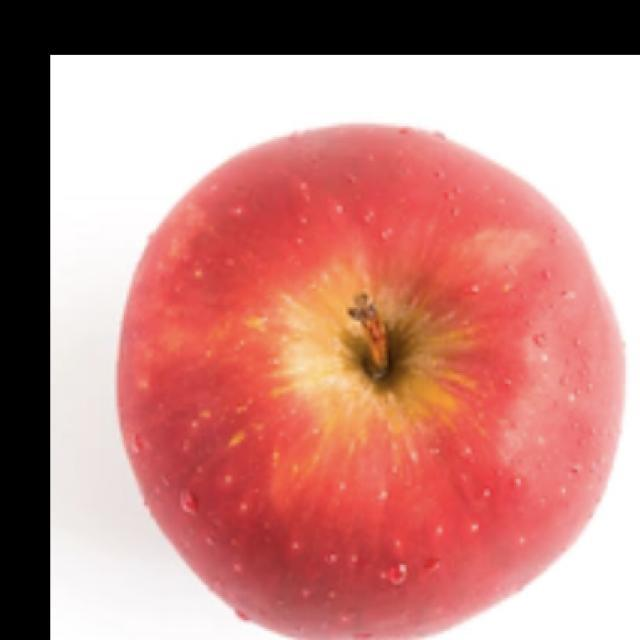Fresh Apple: (144, 126, 613, 640)
